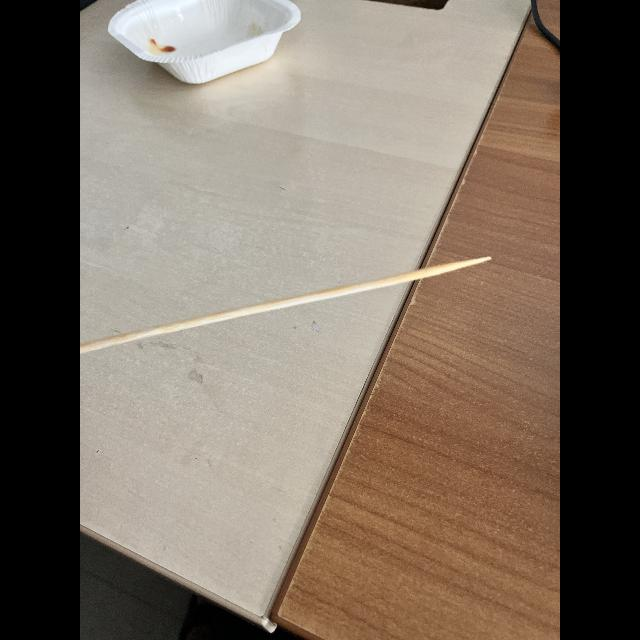cardboard_bowl: (103, 1, 314, 98)
stick: (80, 231, 494, 393)
